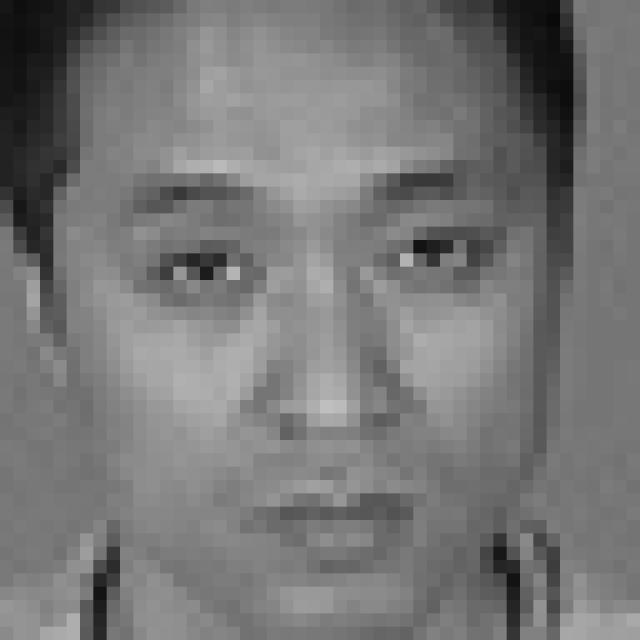neutral: (115, 156, 535, 581)
